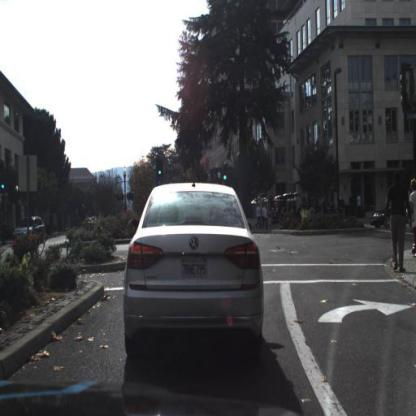car: (122, 182, 265, 365), (370, 198, 416, 231), (13, 216, 46, 248)
pedestrian: (384, 168, 409, 282), (409, 178, 416, 260)
trafficLight: (156, 156, 164, 179)
trafficLight-Green: (1, 177, 9, 200), (222, 163, 228, 183)
